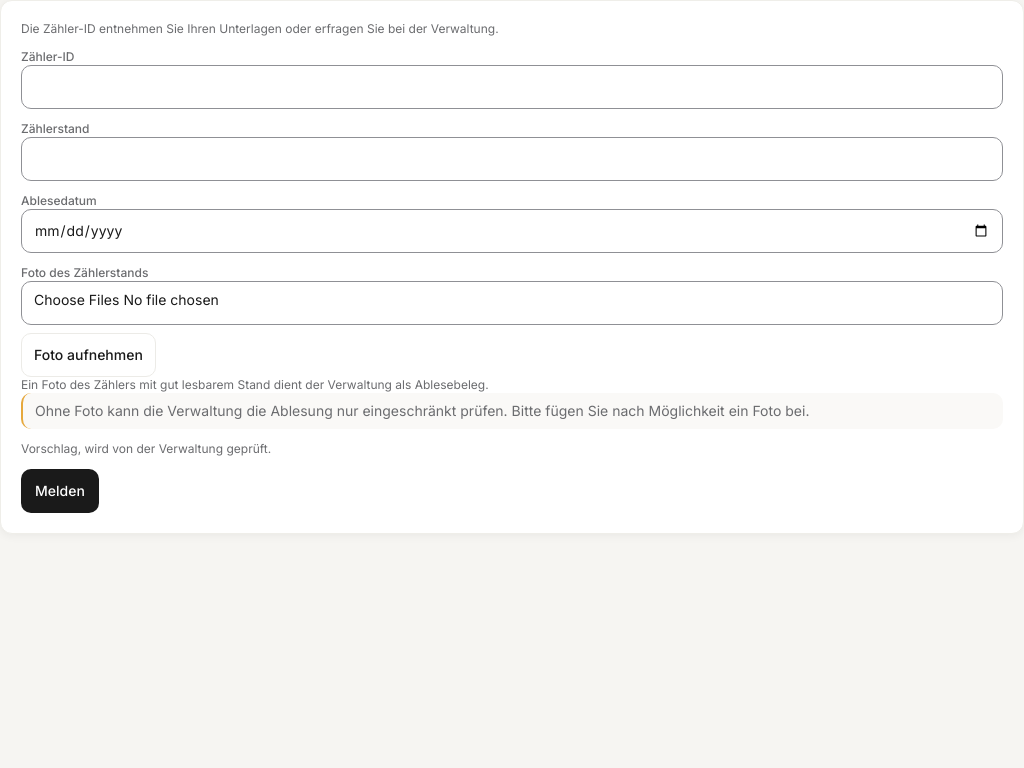
Scenario: MeterReadingForm › notes a reading sent without photo
In the field with id "meter-id": (512, 87) 21,65 -> 1003,109, type "M-1"
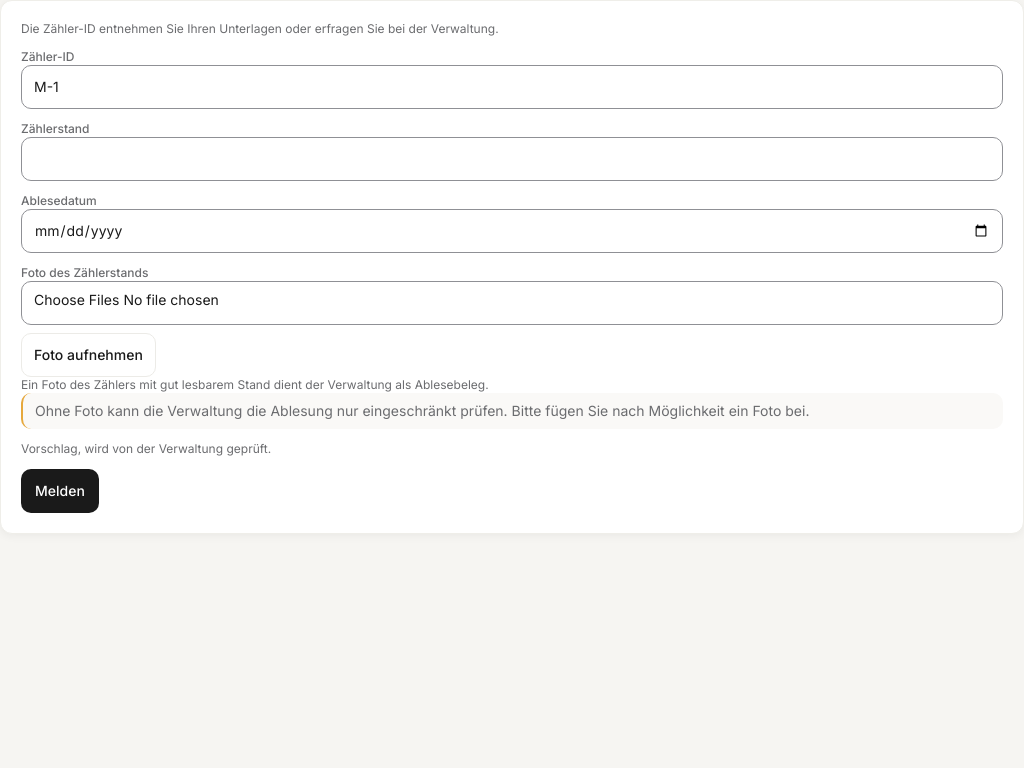
In the field with id "meter-value": (512, 159) 21,137 -> 1003,181, type "7"
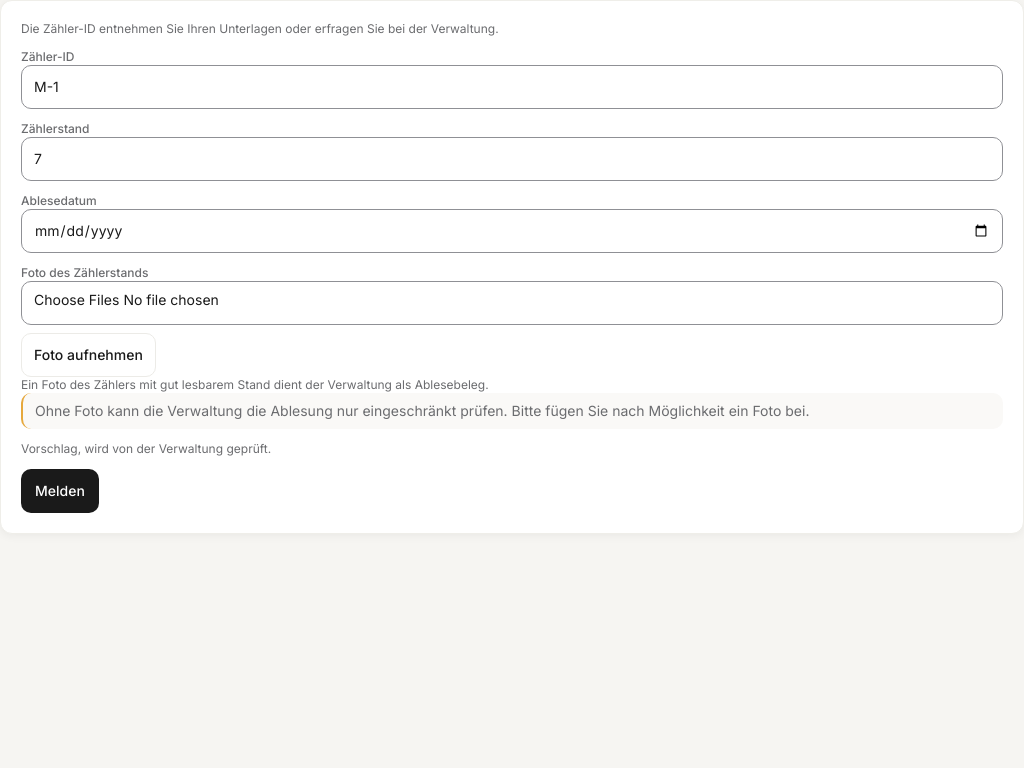
In the date field with id "meter-date": (512, 231) 21,209 -> 1003,253, type "2026-10-01"
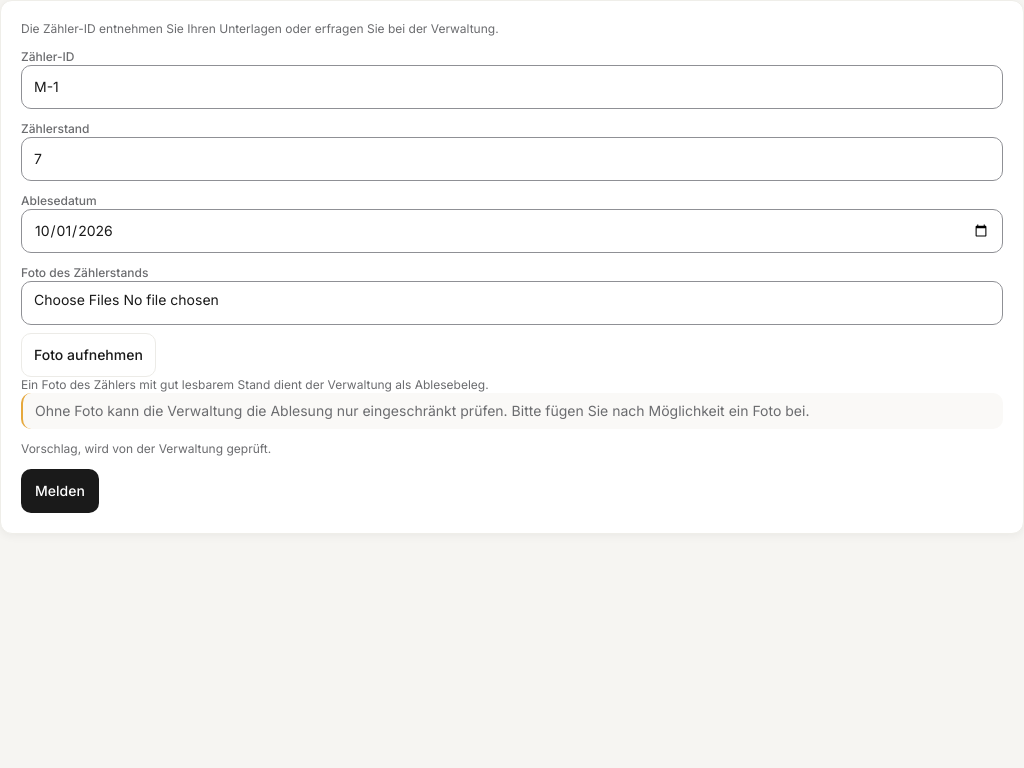
Click the button: (60, 491) 21,469 -> 99,513
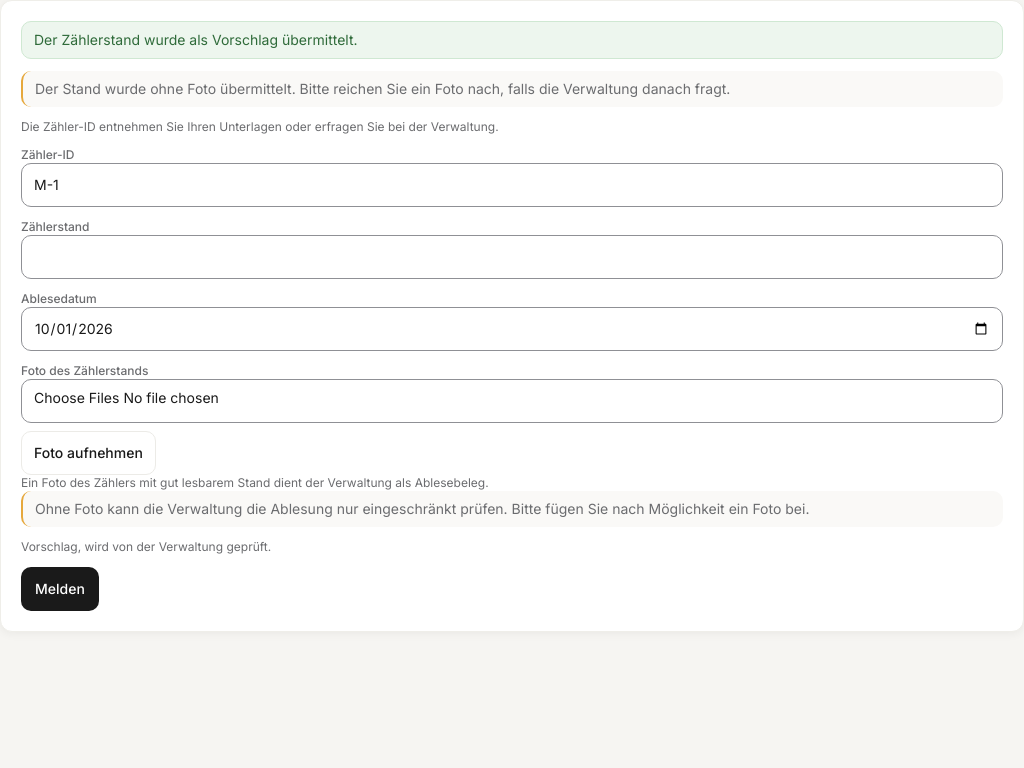
Expected: the text "ohne Foto übermittelt" is shown, 35,80 -> 730,97
